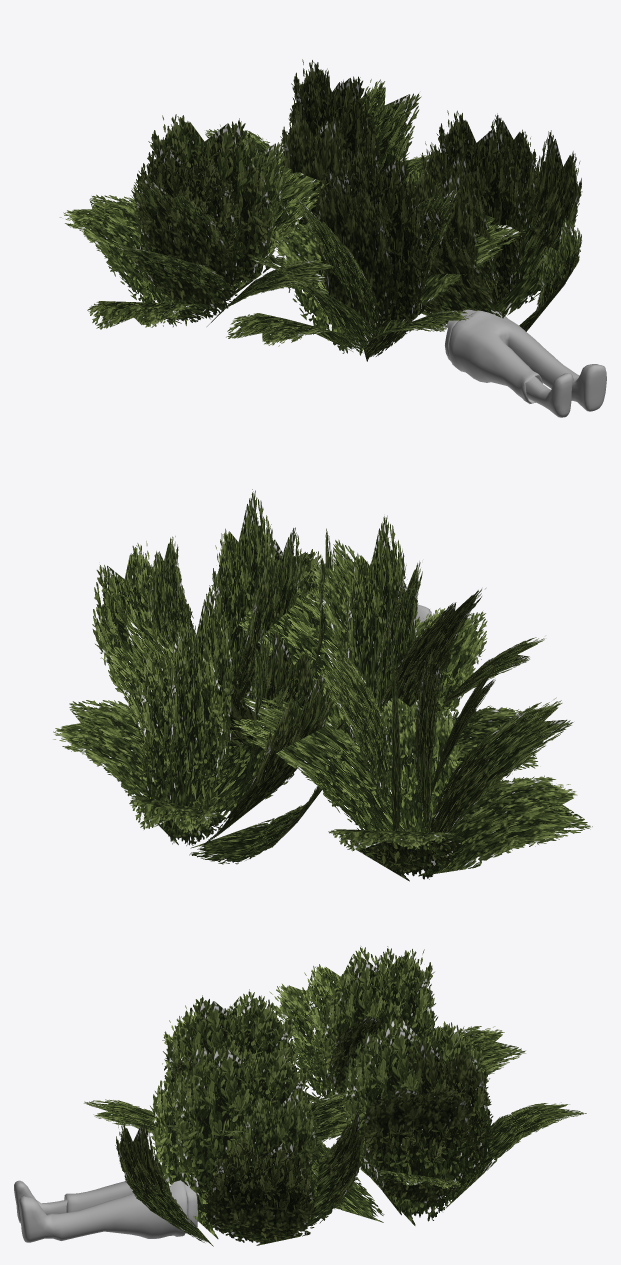
The model's file is bush2.fbx.
The picture shows the model from 3 angles, top to bottom: view 1: azimuth 30°, elevation 25°; view 2: azimuth 150°, elevation 25°; view 3: azimuth 270°, elevation 25°; orthographic projection. The views are drawn at different scales.
Parts seen in each view (by area): view 1: polySurface8, polySurface10; view 2: polySurface8; view 3: polySurface8, polySurface10.
Part boxes in pixels (x1,y1,x2,y2): polySurface8: [59, 59, 582, 361]; polySurface10: [445, 309, 606, 417]; polySurface8: [53, 489, 592, 881]; polySurface8: [84, 946, 586, 1246]; polySurface10: [14, 1177, 197, 1242].
Size of the model in its own units: 250 by 116 by 284.
